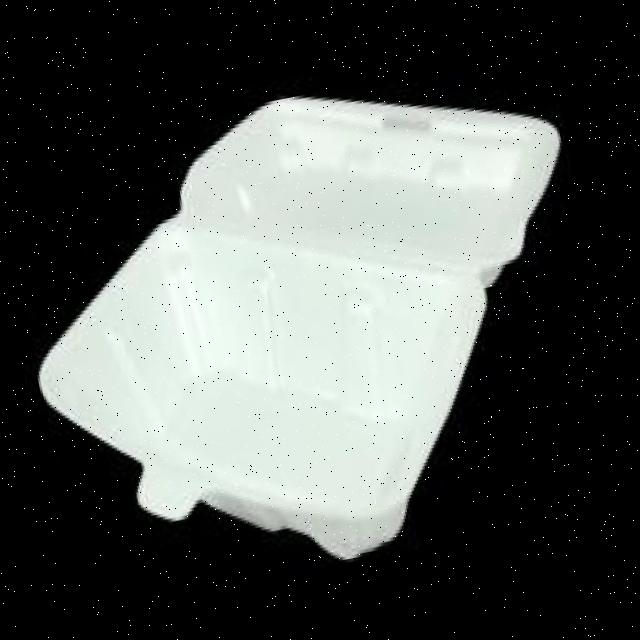styrofoam: (0, 42, 632, 614)
